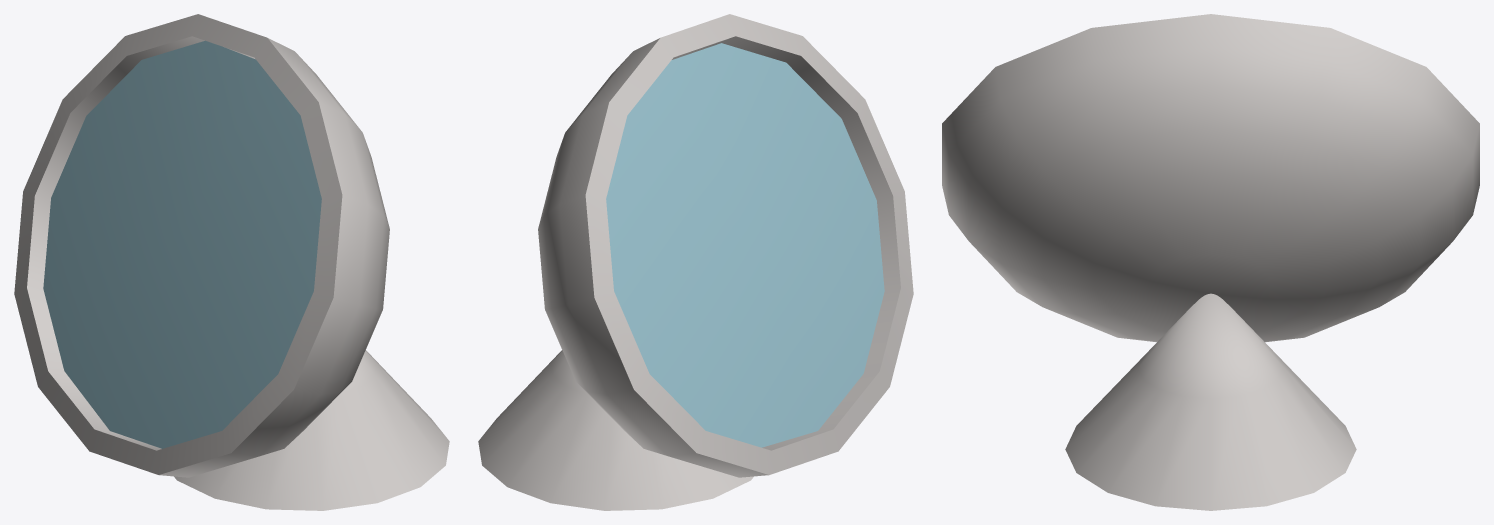
The model's file is Masa_ustu_Bilgisayar.fbx.
The picture shows the model from 3 angles, left to right: view 1: azimuth 30°, elevation 25°; view 2: azimuth 150°, elevation 25°; view 3: azimuth 270°, elevation 25°; orthographic projection.
Parts seen in each view (by area): view 1: polySurface6; view 2: polySurface6; view 3: polySurface6.
Part boxes in pixels (<box>): polySurface6: <box>14,14,449,510</box>; polySurface6: <box>478,14,913,510</box>; polySurface6: <box>942,14,1479,510</box>.
Bounding box in the file's own units: 2.19 × 2.57 × 3.
